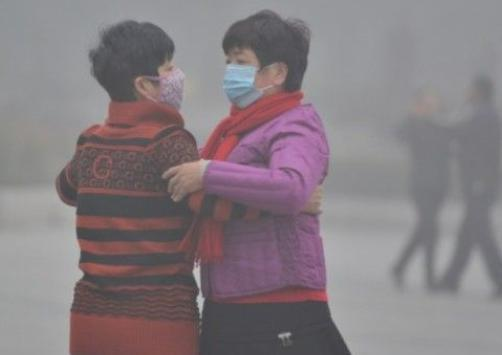face_mask: (223, 44, 271, 105), (136, 50, 183, 103)
